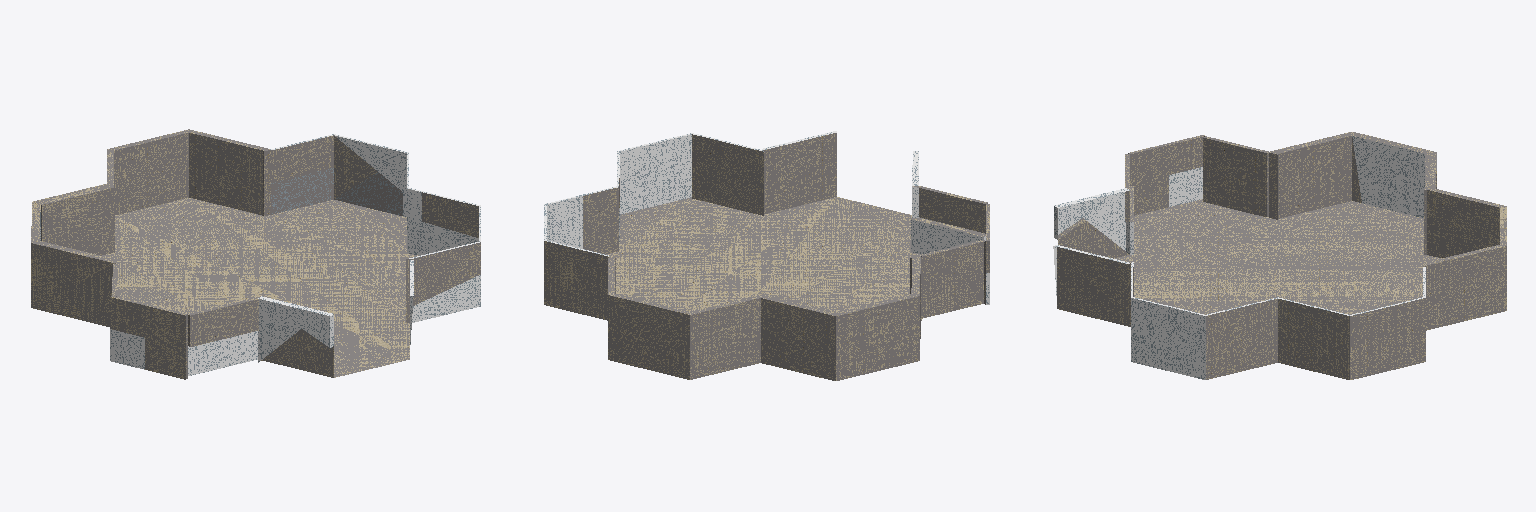
3 renders of one model, left to right at view 1: azimuth 30°, elevation 25°; view 2: azimuth 150°, elevation 25°; view 3: azimuth 270°, elevation 25°, orthographic.
Visible parts, largest first — view 1: Mesh1 Model; view 2: Mesh1 Model; view 3: Mesh1 Model.
Boxes of the visible parts, x1,y1,x2,y2 form: Mesh1 Model: [31, 129, 480, 379]; Mesh1 Model: [544, 131, 989, 380]; Mesh1 Model: [1053, 132, 1506, 379].
Bounding box in the file's own units: 125 × 20.58 × 130.
4 materials, 1 textured.